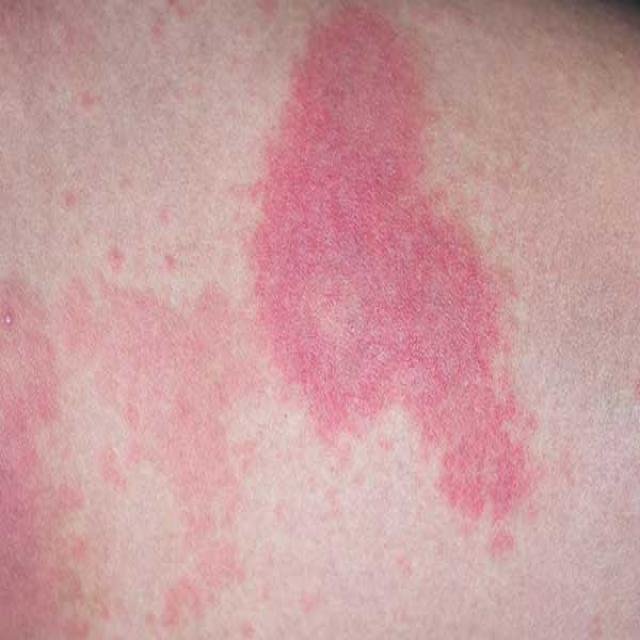hives: (36, 42, 564, 626)
